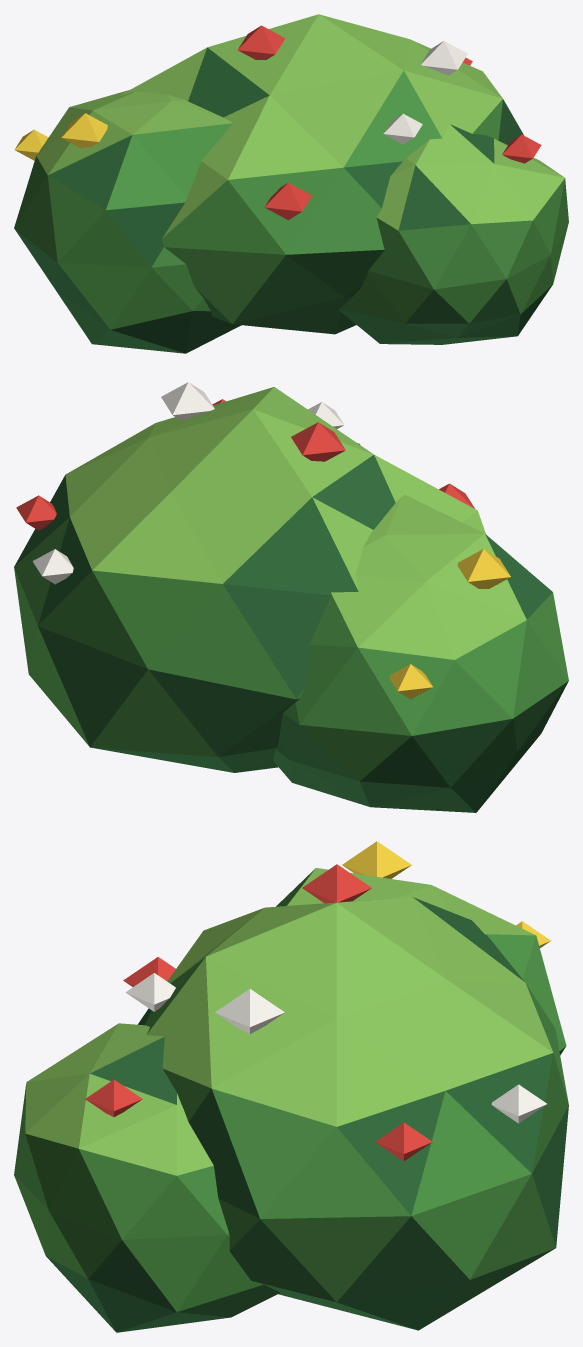
File: bush_b.glb
The picture shows the model from 3 angles, top to bottom: view 1: azimuth 30°, elevation 25°; view 2: azimuth 150°, elevation 25°; view 3: azimuth 270°, elevation 25°; orthographic projection. The views are drawn at different scales.
Parts seen in each view (by area): view 1: bush_b__mesh; view 2: bush_b__mesh; view 3: bush_b__mesh.
Part boxes in pixels (box(x1,y1,x2,y2)): bush_b__mesh: box(14, 14, 568, 353); bush_b__mesh: box(14, 382, 568, 812); bush_b__mesh: box(14, 841, 568, 1332).
Size of the model in its own units: 1.6 by 1.04 by 1.34.
Materials: 1 (1 with a texture image).
